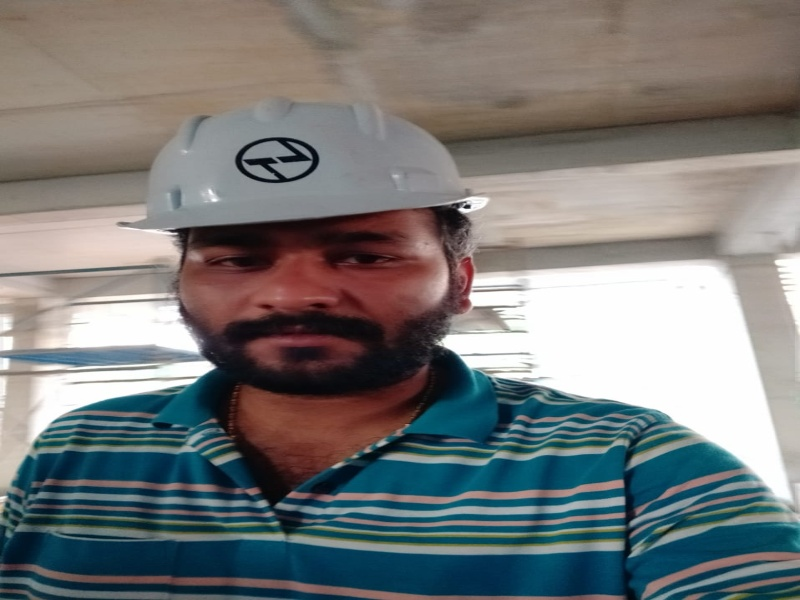Face: (119, 93, 484, 217)
